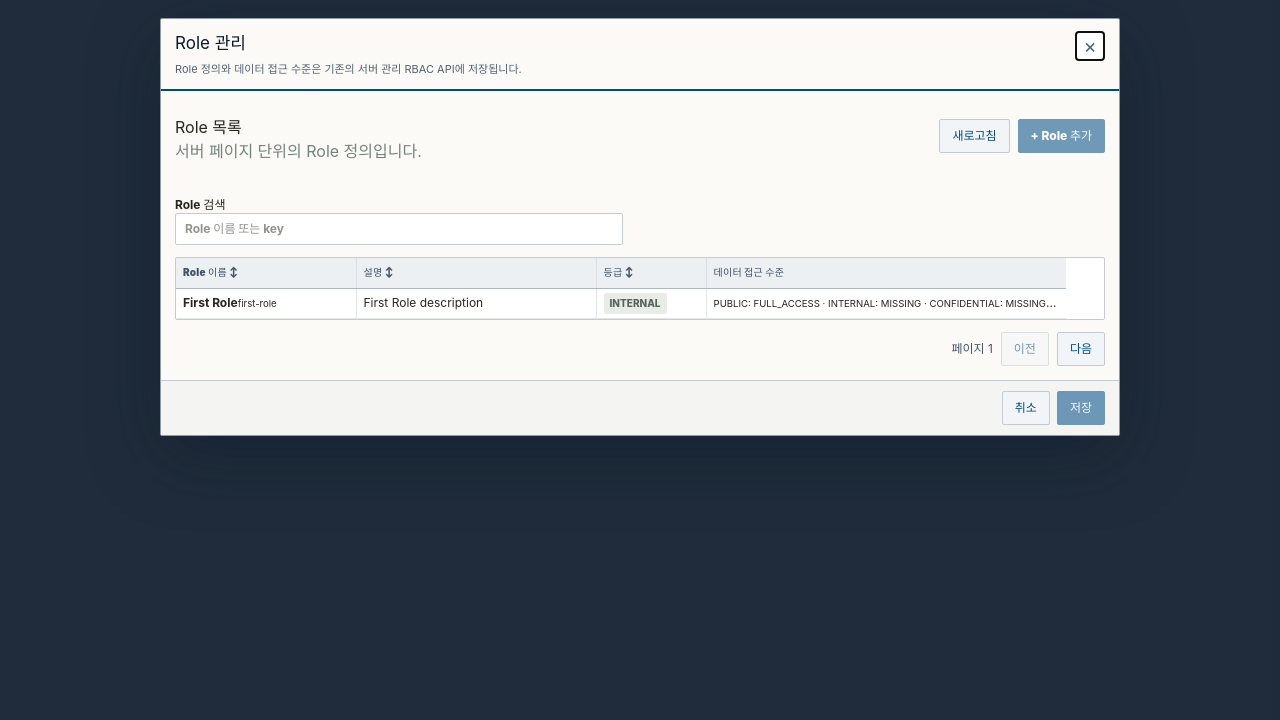
Scenario: RoleManagementDialog › keeps Role definitions on bounded server cursor pages in the modal
Expected: the text "First Role" is shown, [183,295,238,310]
Click the button "다음" at [1081, 348], box [1057,332,1105,366]
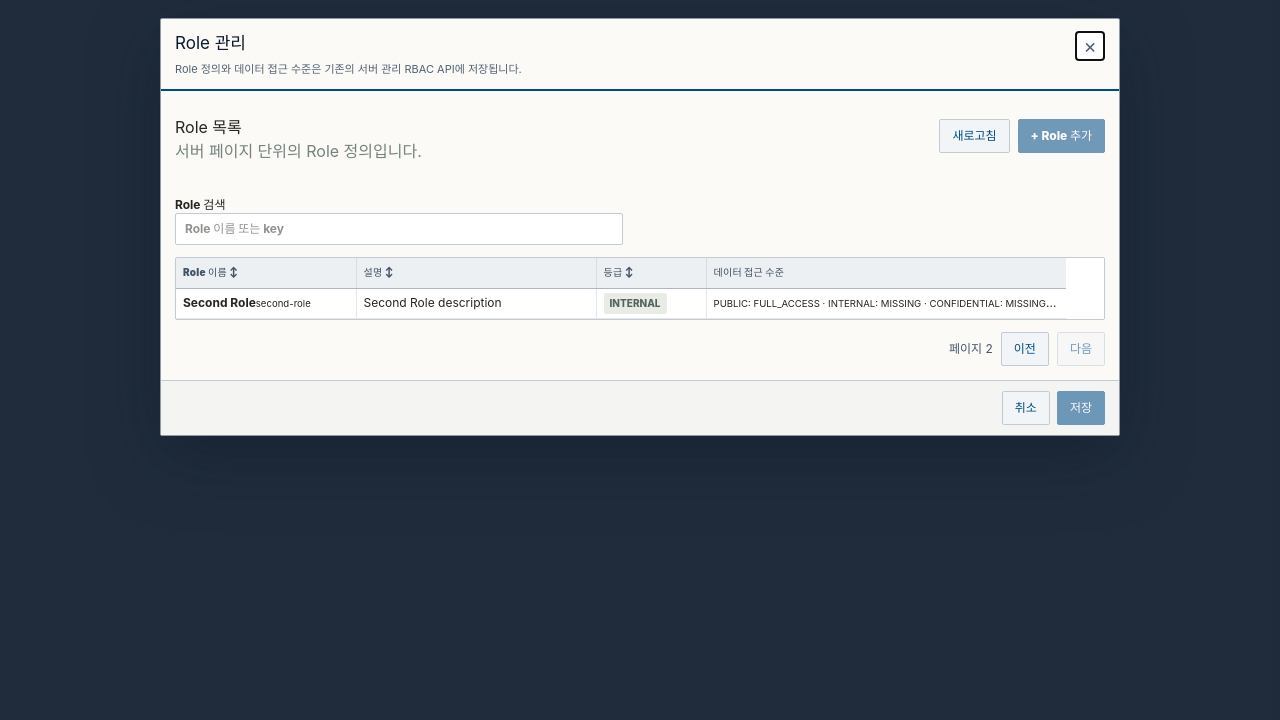
Expected: the text "Second Role" is shown, [183,295,256,310]
Expected: the text "First Role" is gone
